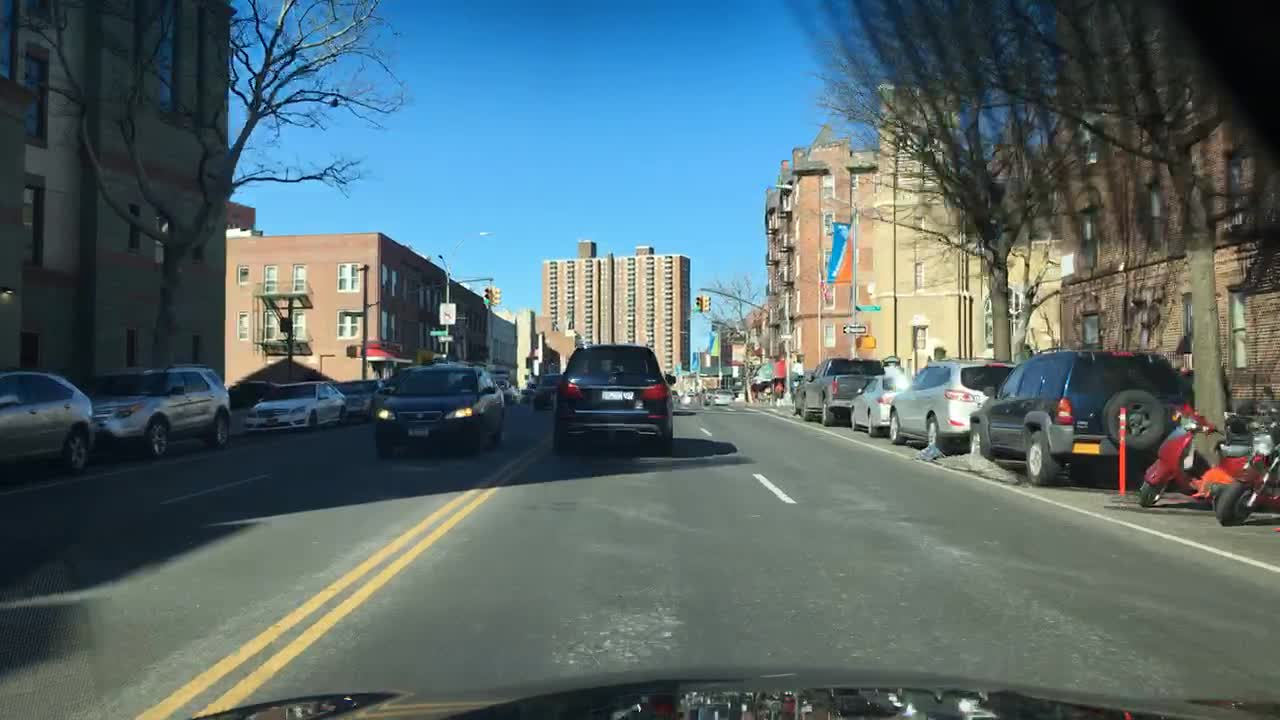car: (962, 342, 1186, 483), (554, 341, 676, 462), (82, 359, 234, 456), (884, 352, 1019, 450), (376, 361, 506, 451), (1, 362, 95, 474), (243, 381, 349, 434), (802, 358, 878, 424), (848, 370, 915, 434), (343, 375, 389, 420), (526, 367, 565, 408), (790, 370, 817, 413), (493, 376, 516, 401), (713, 385, 738, 405), (701, 385, 722, 401)
motor: (1134, 401, 1270, 505), (1214, 397, 1278, 523)
person: (771, 376, 780, 394)
traffic light: (480, 284, 493, 304), (488, 287, 500, 306), (702, 295, 711, 309), (486, 284, 491, 303), (695, 296, 699, 310)
traffic sign: (437, 300, 456, 321), (842, 321, 866, 335), (857, 303, 883, 312), (437, 335, 453, 341), (428, 329, 447, 333)
